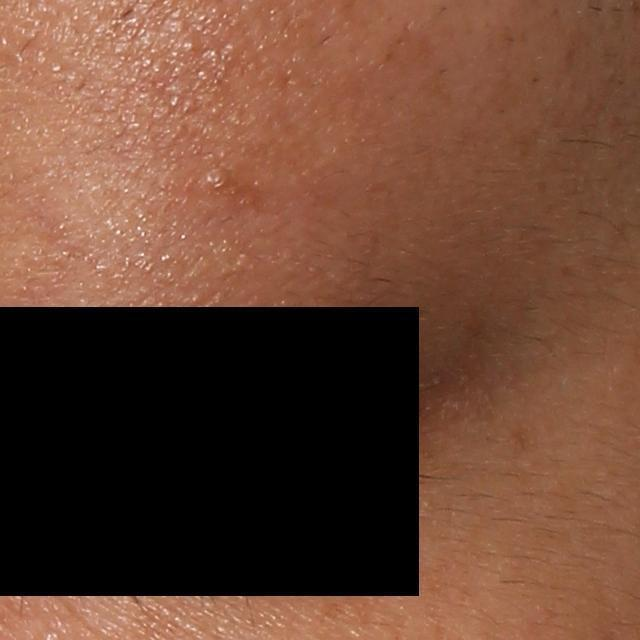comedo: (205, 167, 230, 190)
